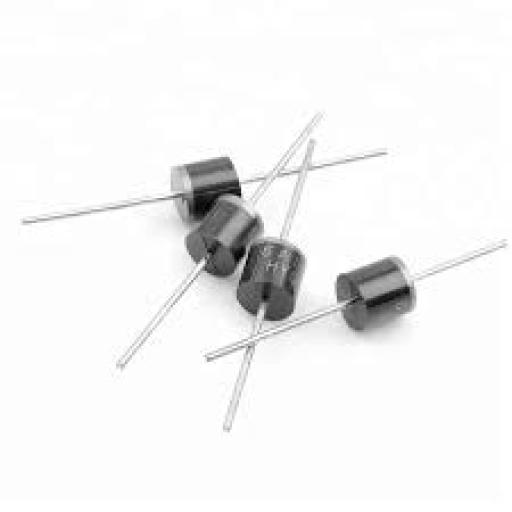DIODE: (18, 107, 508, 430)
